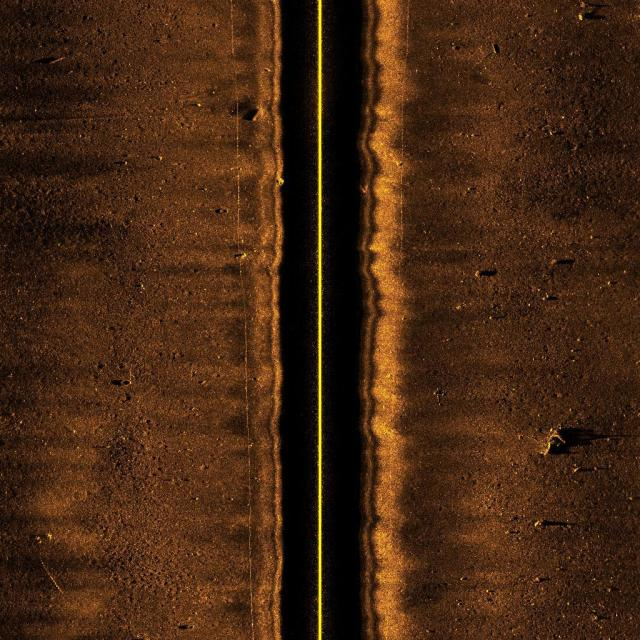mine: (28, 52, 70, 67), (530, 519, 576, 530), (247, 105, 266, 124), (489, 40, 502, 56)
other: (535, 425, 591, 466)
